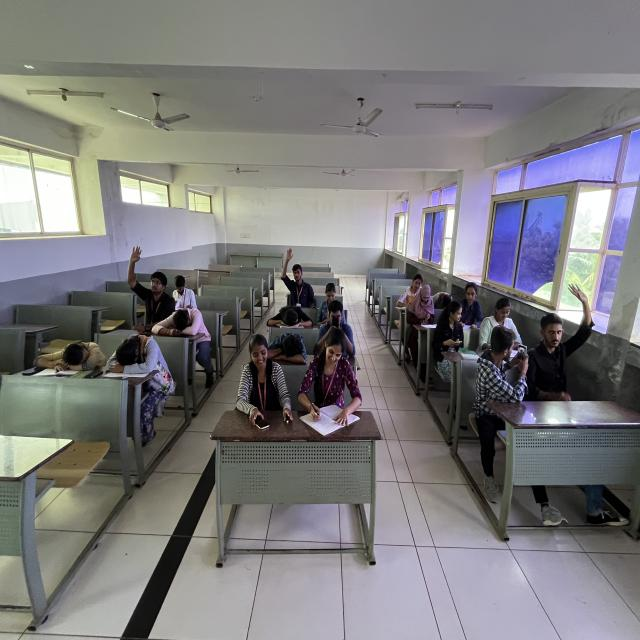Hand Rising: (533, 279, 596, 397), (123, 240, 174, 324), (278, 243, 312, 304)
Sleeping: (103, 332, 171, 390), (148, 301, 222, 351), (33, 335, 110, 379), (257, 330, 314, 367), (262, 302, 315, 332)
Using Phone: (228, 328, 298, 428), (470, 317, 535, 403), (434, 299, 471, 367), (405, 282, 440, 339), (313, 298, 352, 349)
